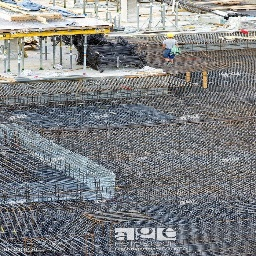person: (161, 30, 181, 69)
